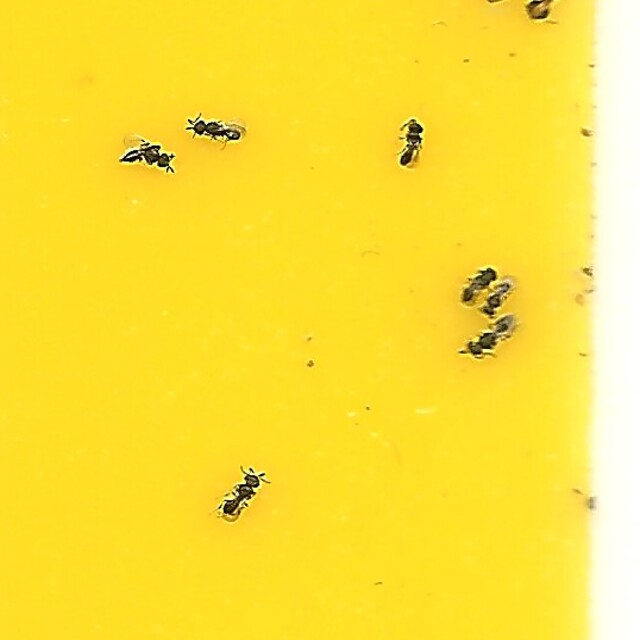Hymenoptera: (220, 465, 269, 526), (465, 313, 521, 363), (187, 115, 249, 148), (119, 138, 175, 174), (397, 114, 427, 171), (479, 275, 515, 321), (458, 264, 496, 307)
